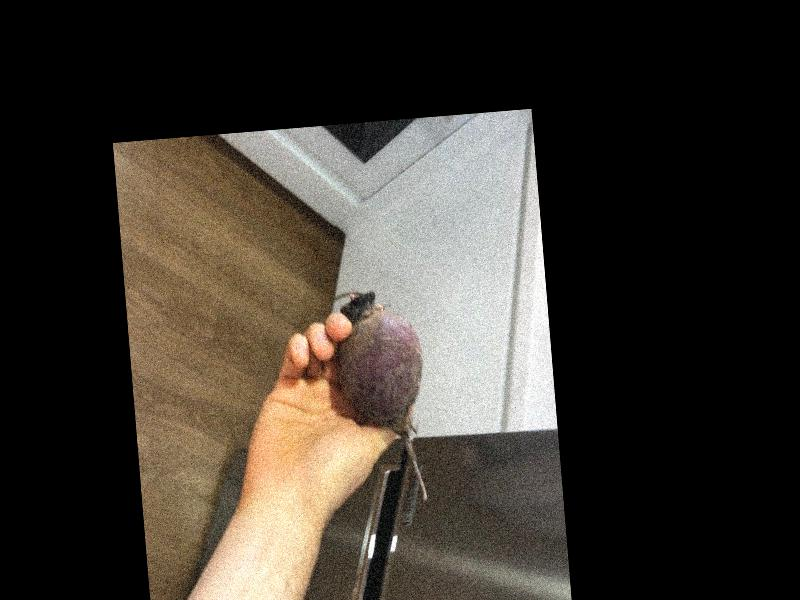Beet: (332, 285, 433, 506)
